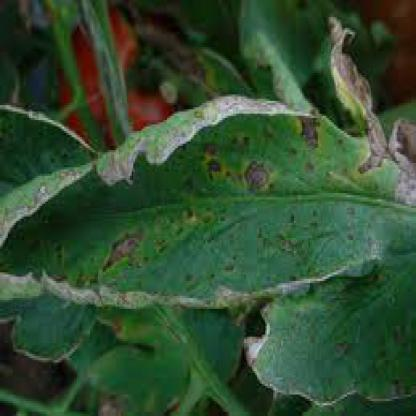Tomato leaf bacterial spot: (5, 84, 406, 347)
